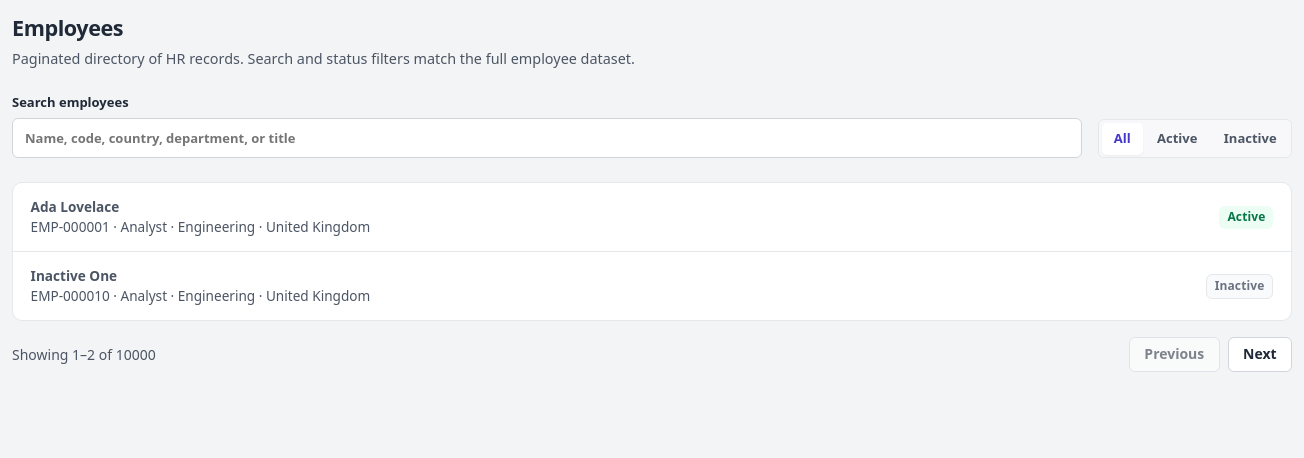
Test case: selecting INACTIVE requests status=INACTIVE and uses API results
Check: the text "Ada Lovelace" is shown, box [31, 197, 119, 216]
Click the button "Inactive" at {"x": 1250, "y": 139}, box [1212, 123, 1289, 155]
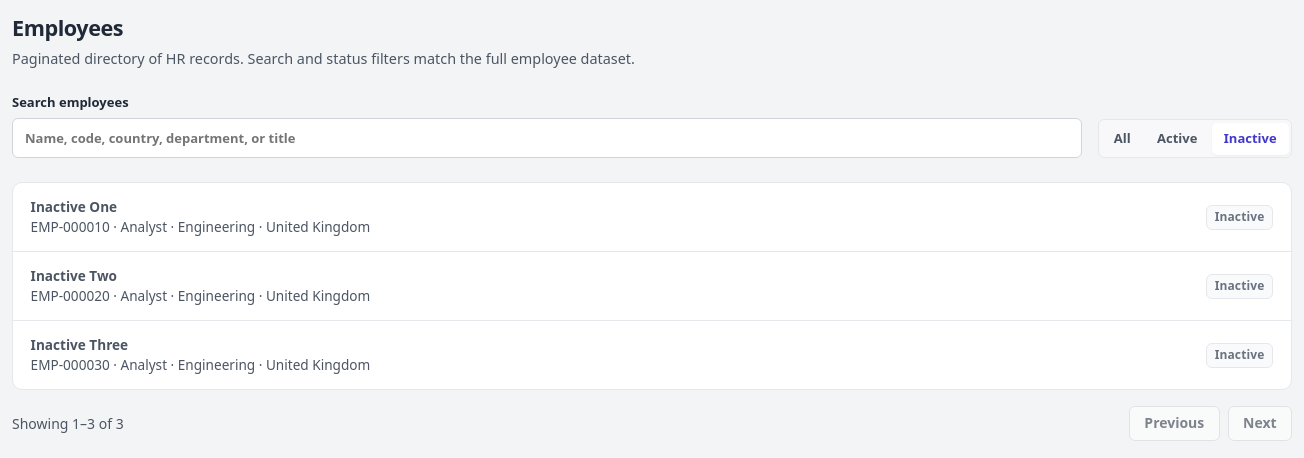
Check: the text "Inactive Two" is shown, box [31, 266, 117, 285]
Check: the text "Inactive Three" is shown, box [31, 335, 128, 354]
Check: the button "Ada Lovelace" is gone
